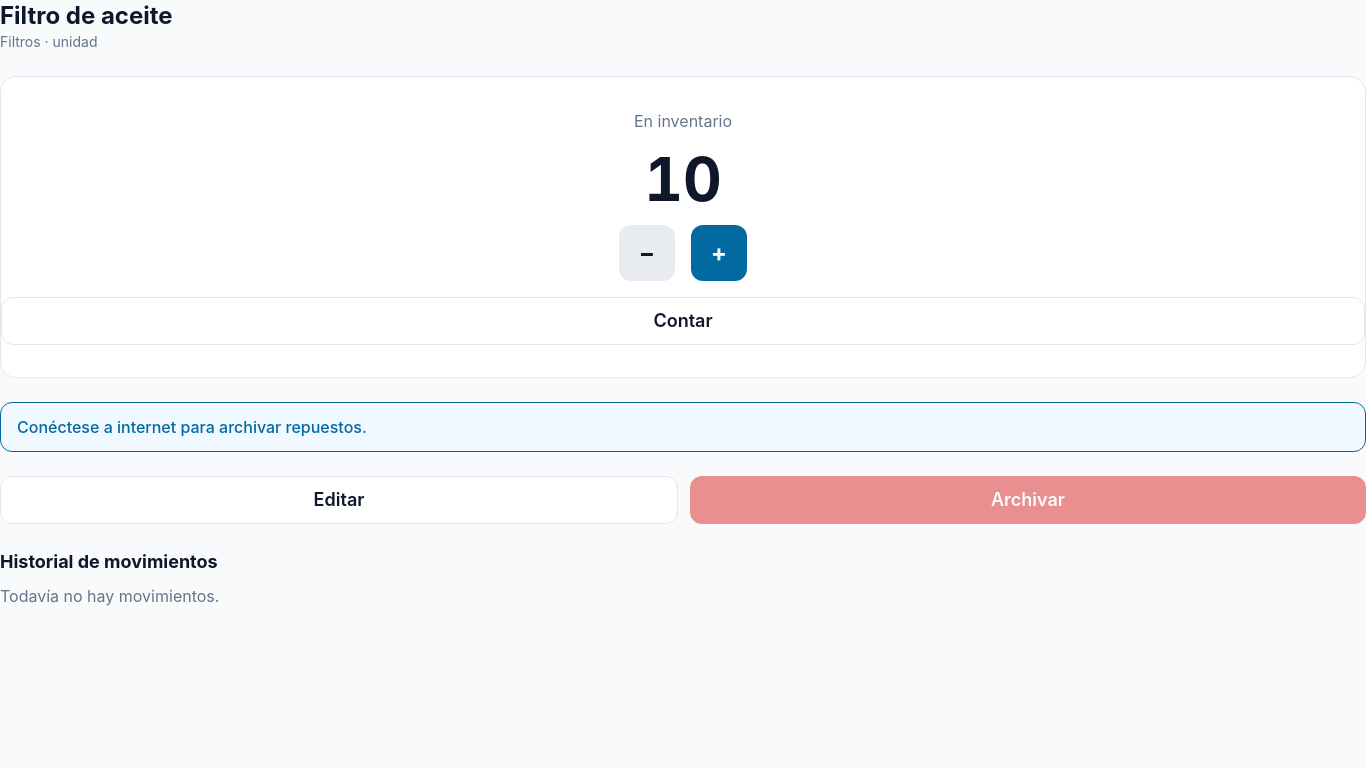
Test: EditItemPage › disables saving and explains why when opened after the connection dropped
expect the text "10" is shown: met, box [644,149,722,209]
Click the link "Editar". click: (339, 500)
box: [0,476,678,524]
(page scrolled)
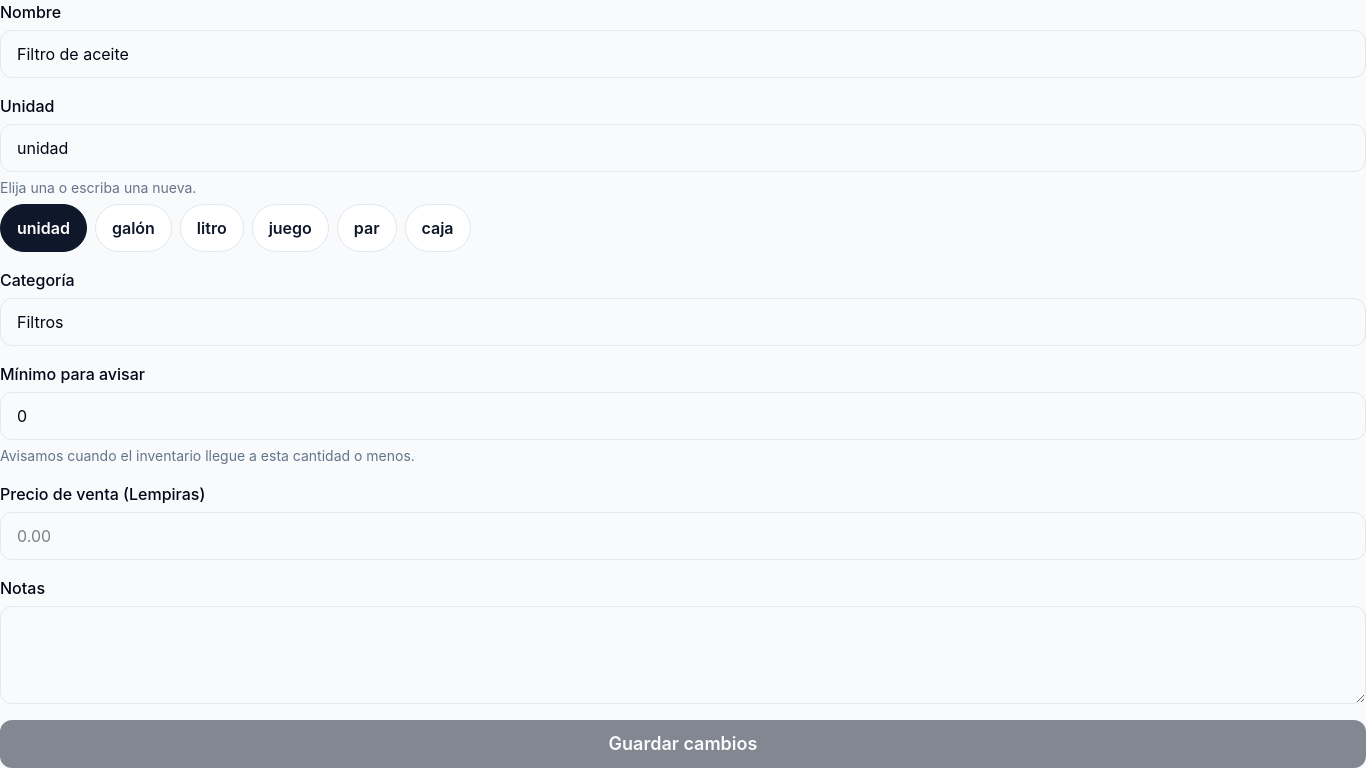
expect the button "Guardar cambios" is disabled: met, box [0,720,1365,767]
